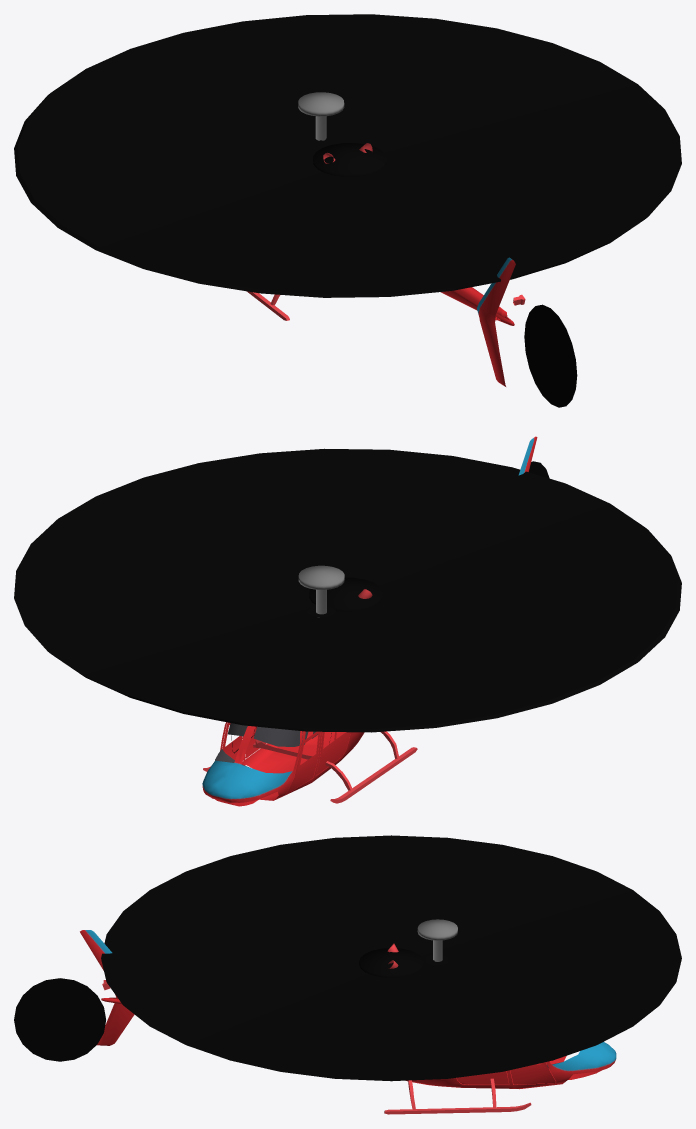
The model's file is heli_opt.glb.
The picture shows the model from 3 angles, top to bottom: view 1: azimuth 30°, elevation 25°; view 2: azimuth 150°, elevation 25°; view 3: azimuth 270°, elevation 25°; orthographic projection. The views are drawn at different scales.
Parts seen in each view (by area): view 1: Cylinder001, Layer0_Material_#25_0006, Layer0__0; view 2: Cylinder001, Layer0_Material_#25_0006, Layer0__0; view 3: Cylinder001, Layer0_Material_#25_0006, Layer0__0.
Part boxes in pixels (bbox=[...]): Cylinder001: bbox=[14, 14, 681, 407]; Layer0_Material_#25_0006: bbox=[440, 257, 515, 386]; Layer0__0: bbox=[247, 92, 525, 320]; Cylinder001: bbox=[14, 448, 681, 732]; Layer0_Material_#25_0006: bbox=[202, 436, 537, 806]; Layer0__0: bbox=[203, 565, 417, 803]; Cylinder001: bbox=[14, 835, 681, 1081]; Layer0_Material_#25_0006: bbox=[80, 930, 616, 1089]; Layer0__0: bbox=[102, 919, 559, 1114].
Size of the model in its own units: 102501 by 31128 by 117096.
Materials: 3 (3 with a texture image).
